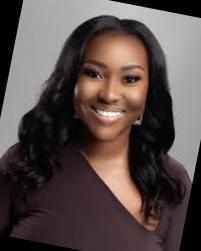Sober: (79, 38, 145, 135)
